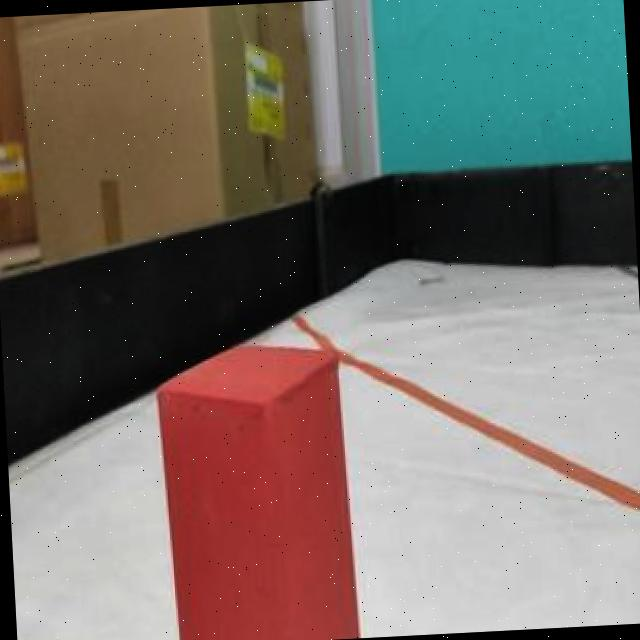redbox: (150, 335, 356, 640)
